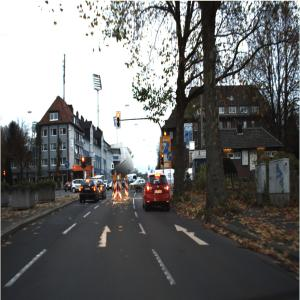go left: (66, 161, 71, 170)
go right: (168, 152, 173, 162)
